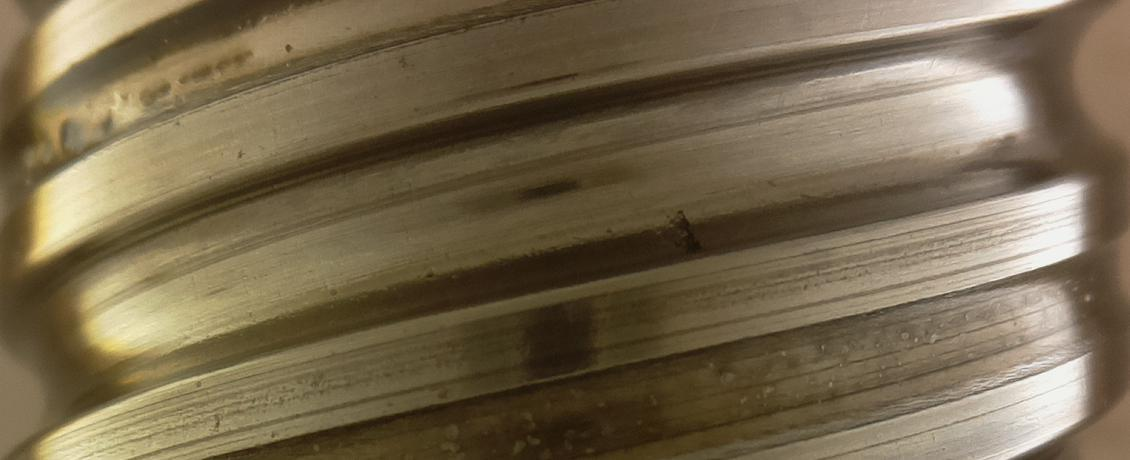pitting: (671, 210, 702, 256)
